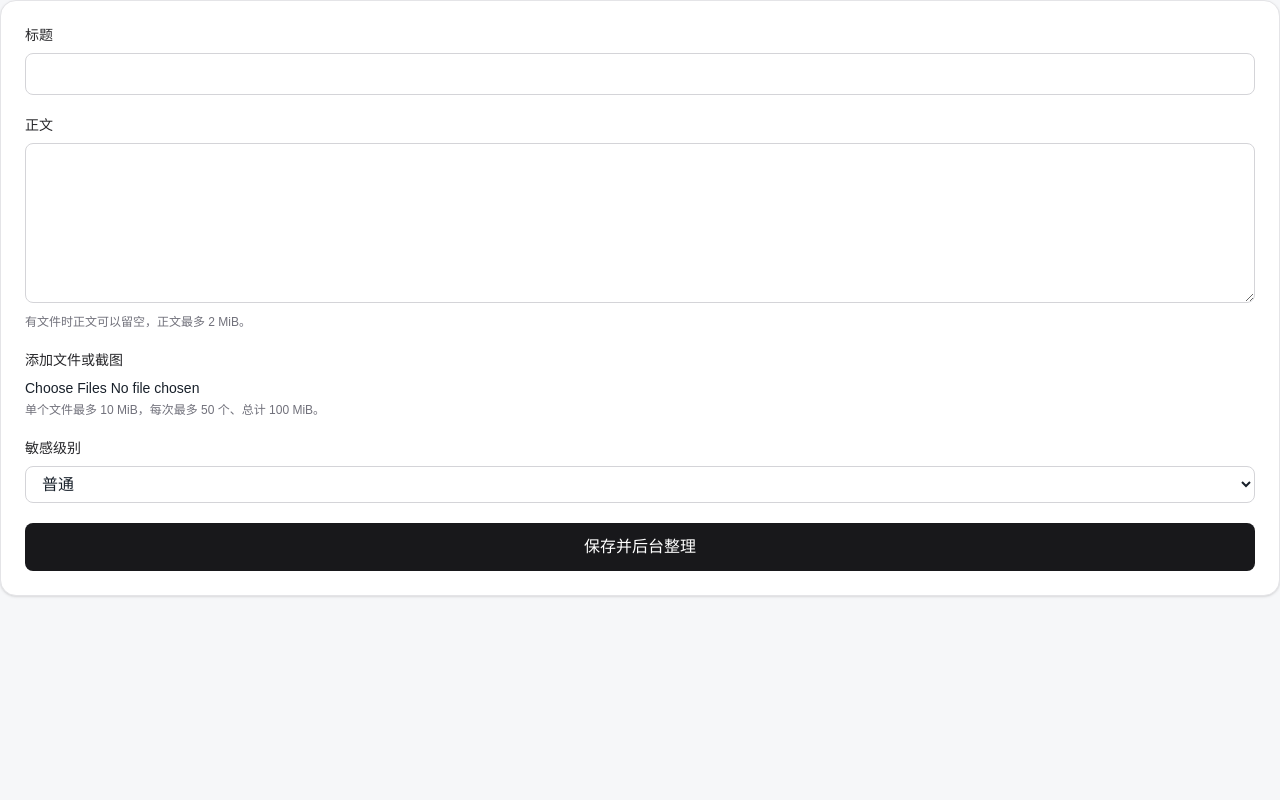
Scenario: ManualCaptureForm › requires a title
The image size is (1280, 800).
In the text box labelled "正文": (640, 223) [25,143,1255,303], type "Synthetic body"
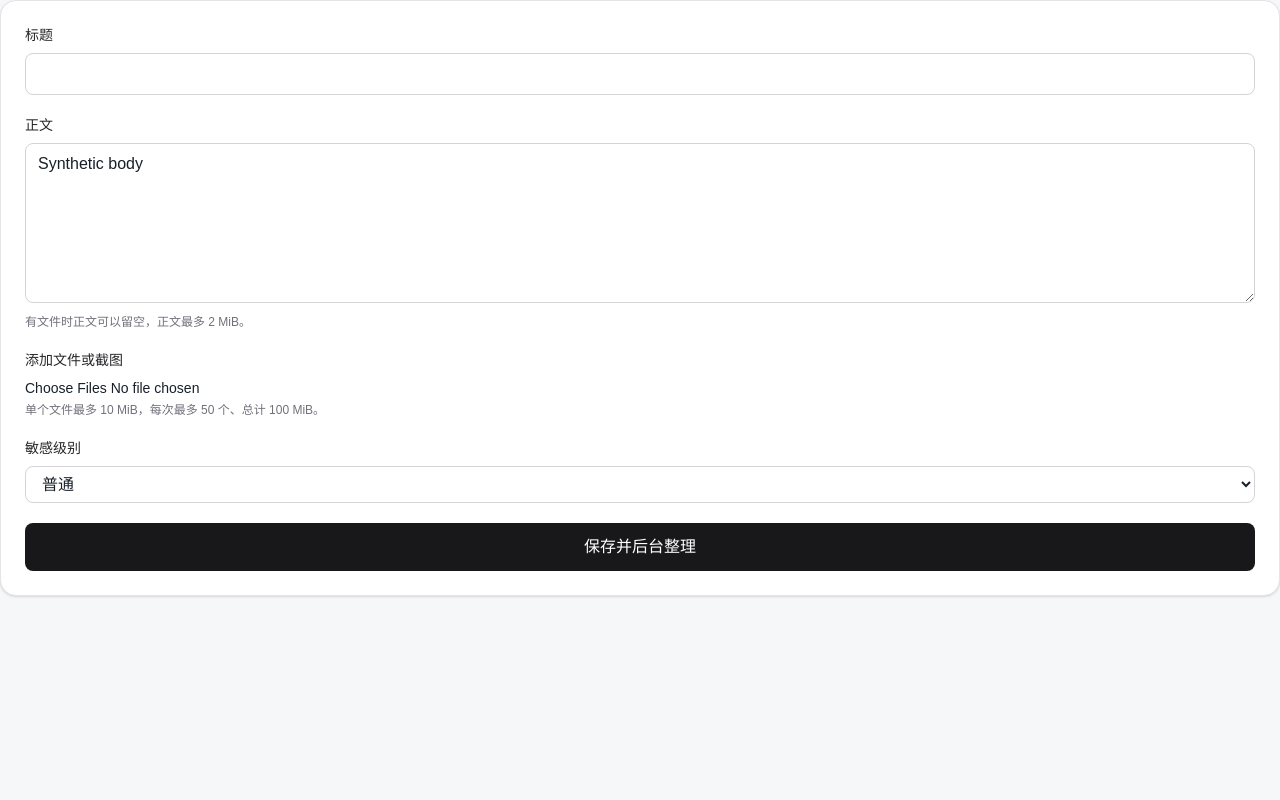
Submit the form named "保存并后台整理"
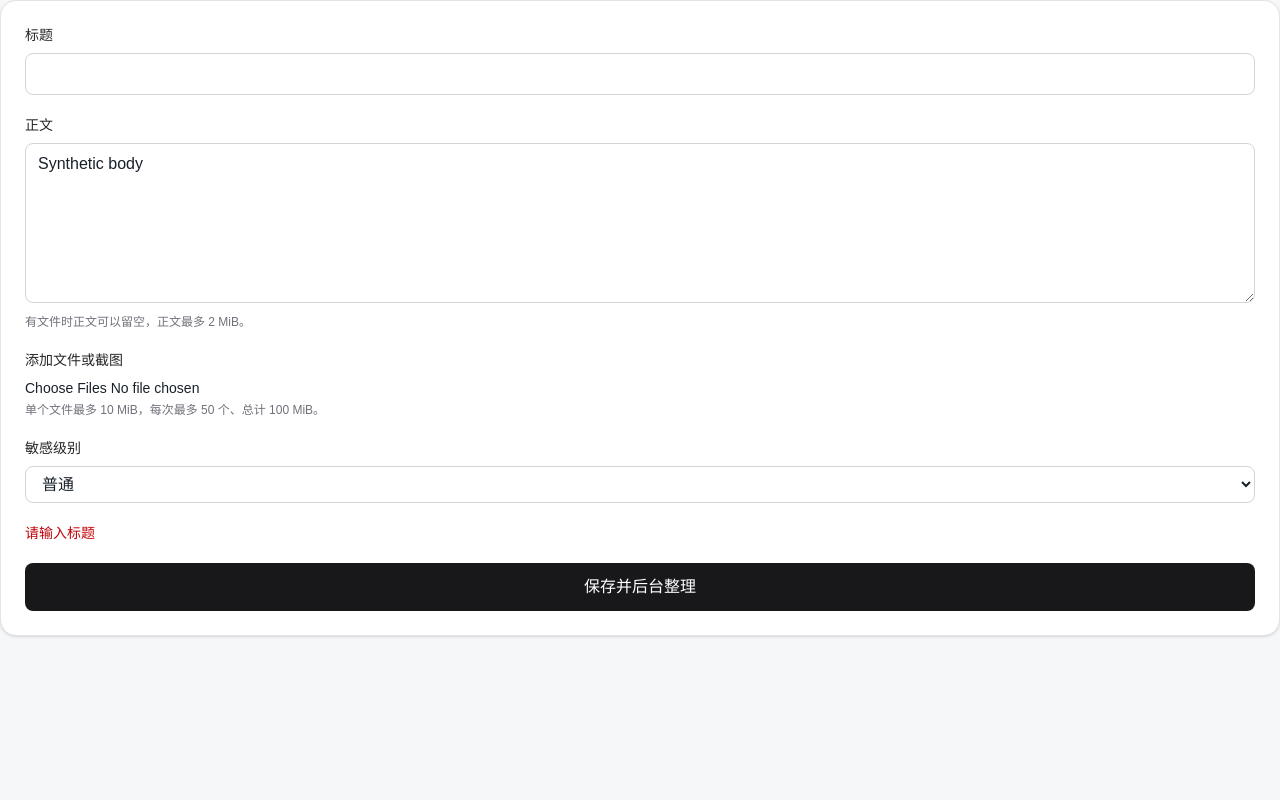
Check: the text "请输入标题" is shown, box [25,525,95,541]
